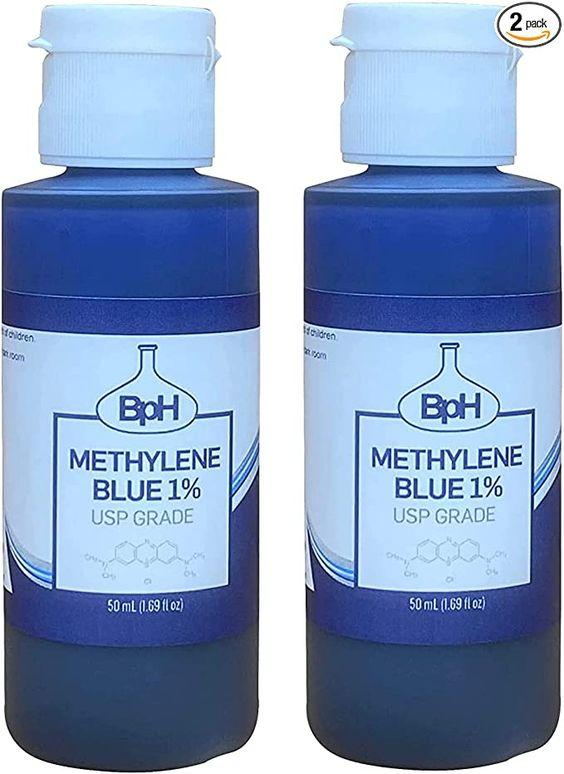HDPE: (278, 0, 564, 774), (0, 0, 285, 774)
